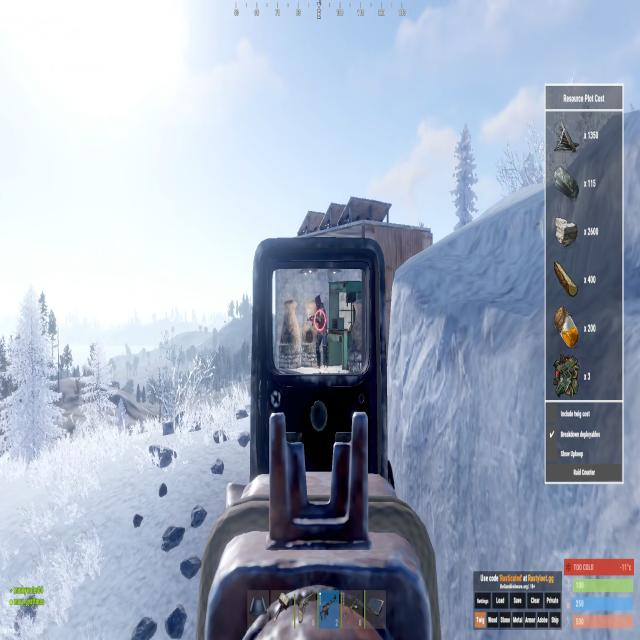Player: (312, 295, 330, 372)
